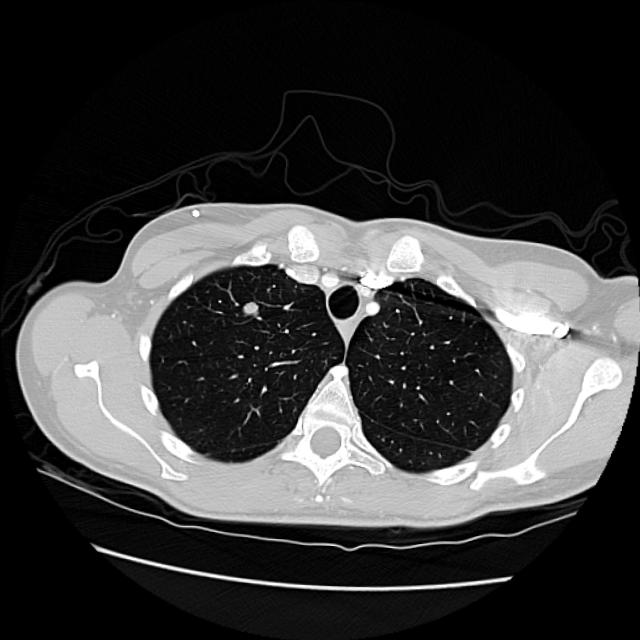nodule: (232, 290, 268, 326)
